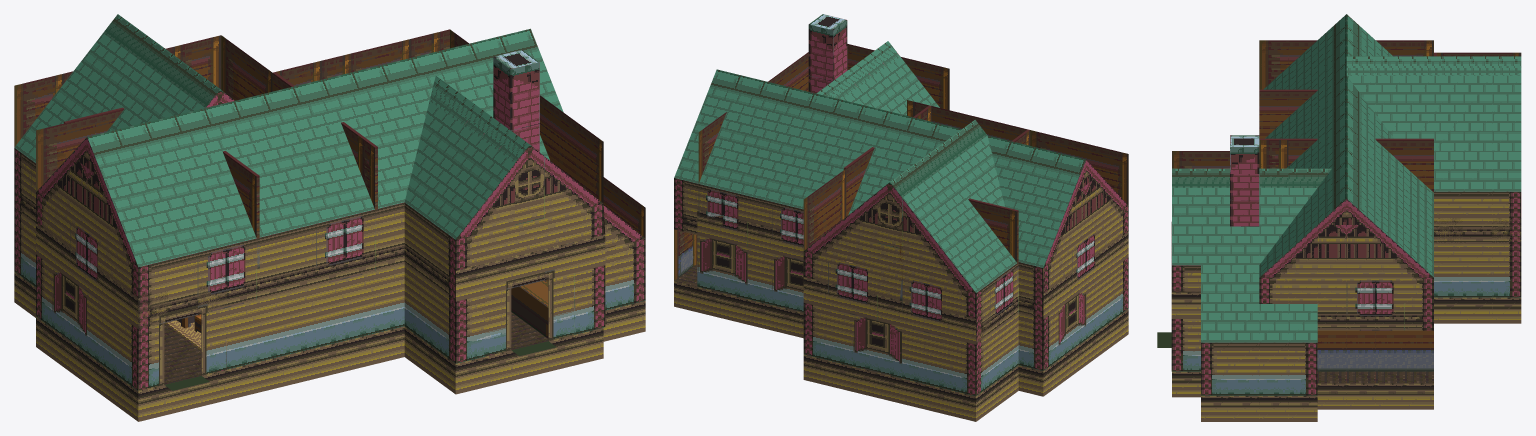
Rendered from house3_in.glb.
3 renders of one model, left to right at view 1: azimuth 30°, elevation 25°; view 2: azimuth 150°, elevation 25°; view 3: azimuth 270°, elevation 25°, orthographic. The views are drawn at different scales.
Visible parts, largest first — view 1: Scenario.003, Scenario.004, Scenario.002, Scenario.001, Scenario.008, Scenario.005; view 2: Scenario.003, Scenario.004, Scenario.002, Scenario.008; view 3: Scenario.003, Scenario.004, Scenario.001, Scenario.008, Scenario.002.
Part boxes in pixels (x1,y1,x2,y2): Scenario.003: (14, 14, 603, 328); Scenario.004: (14, 29, 605, 390); Scenario.002: (14, 271, 603, 421); Scenario.001: (603, 205, 645, 310); Scenario.008: (603, 177, 645, 341); Scenario.005: (511, 279, 548, 338); Scenario.003: (674, 14, 1128, 344); Scenario.004: (697, 44, 1128, 395); Scenario.002: (698, 257, 1128, 421); Scenario.008: (674, 229, 698, 312); Scenario.003: (1172, 14, 1521, 330); Scenario.004: (1171, 40, 1521, 371); Scenario.001: (1201, 265, 1317, 395); Scenario.008: (1201, 371, 1433, 421); Scenario.002: (1157, 297, 1521, 397).
Bounding box in the file's own units: 16.01 × 9 × 12.51.
7 materials, 7 textured.
